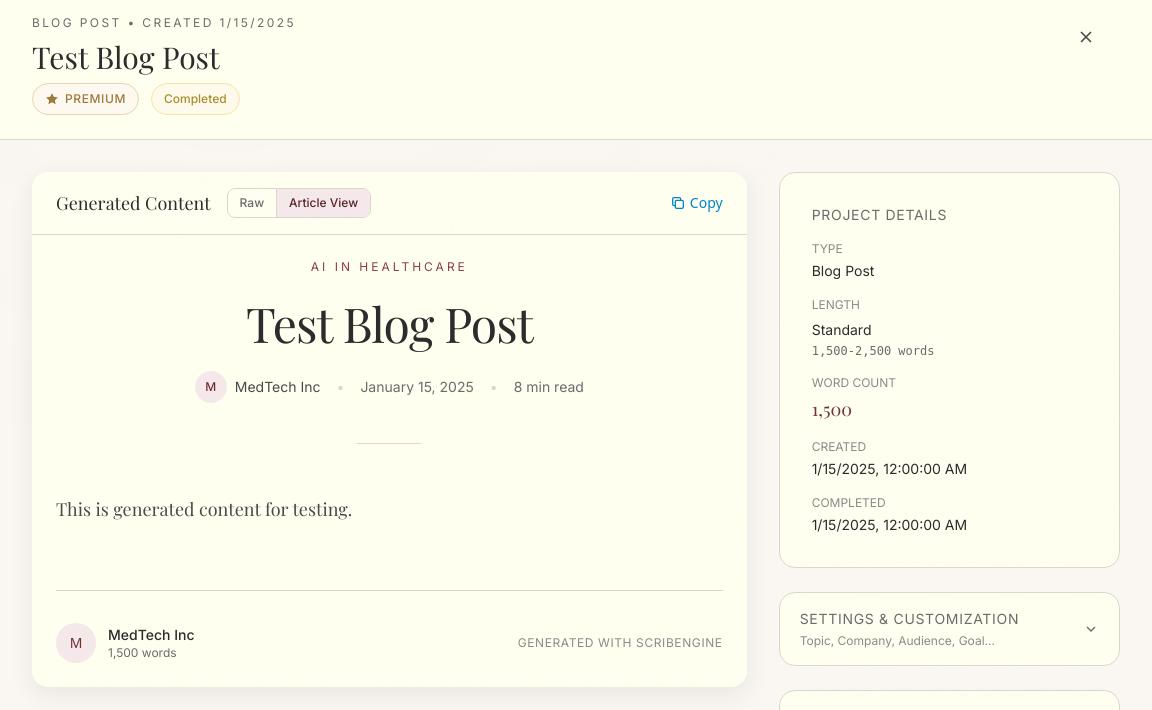
Test case: Project Settings Panel › Style Categories › expanding a category shows its options
Click the heading "Settings & Customization" at (909, 619), box left=800, top=609, right=1019, bottom=629
(page scrolled)
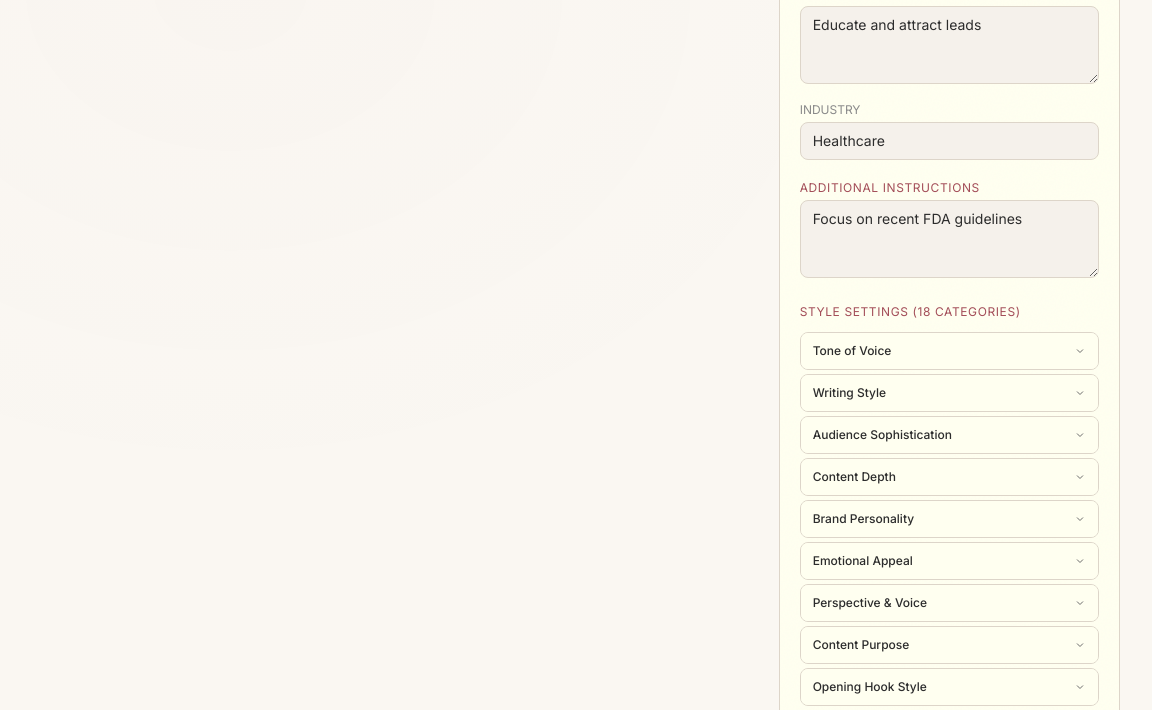
Click the button "Tone of Voice" at (852, 350), box left=801, top=333, right=1098, bottom=369
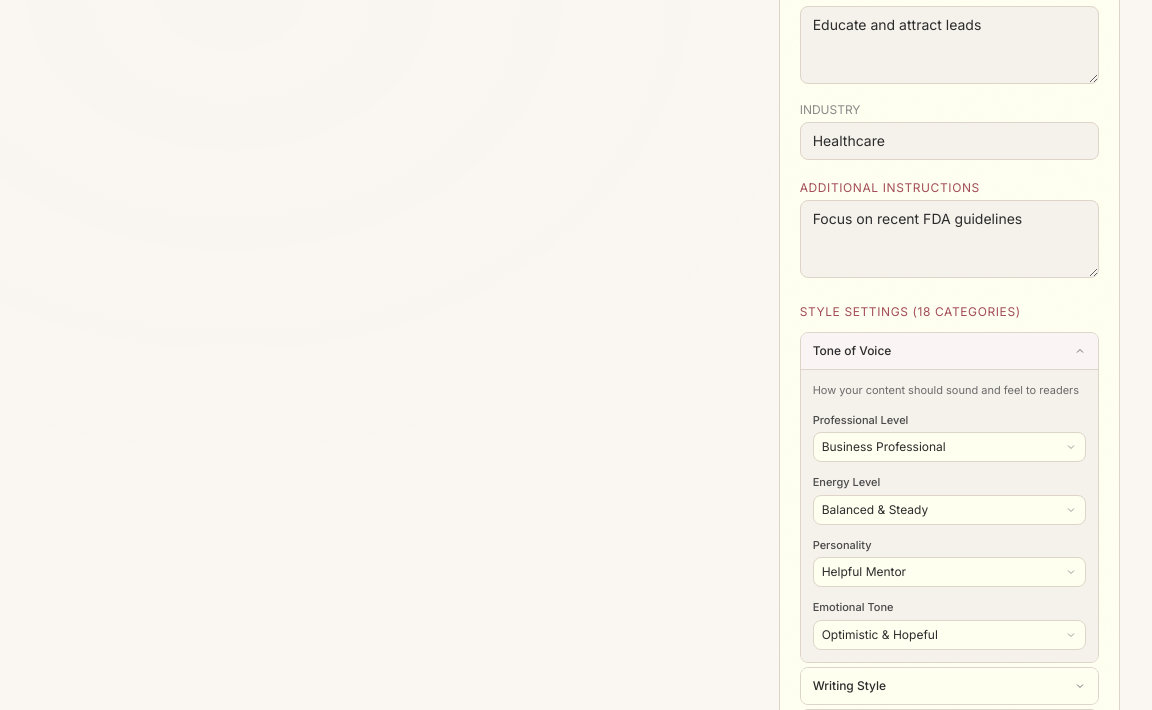
Result: the text "Professional Level" is shown at left=813, top=413, right=908, bottom=427
Result: the text "Energy Level" is shown at left=813, top=475, right=880, bottom=489
Result: the text "Personality" is shown at left=813, top=538, right=872, bottom=552
